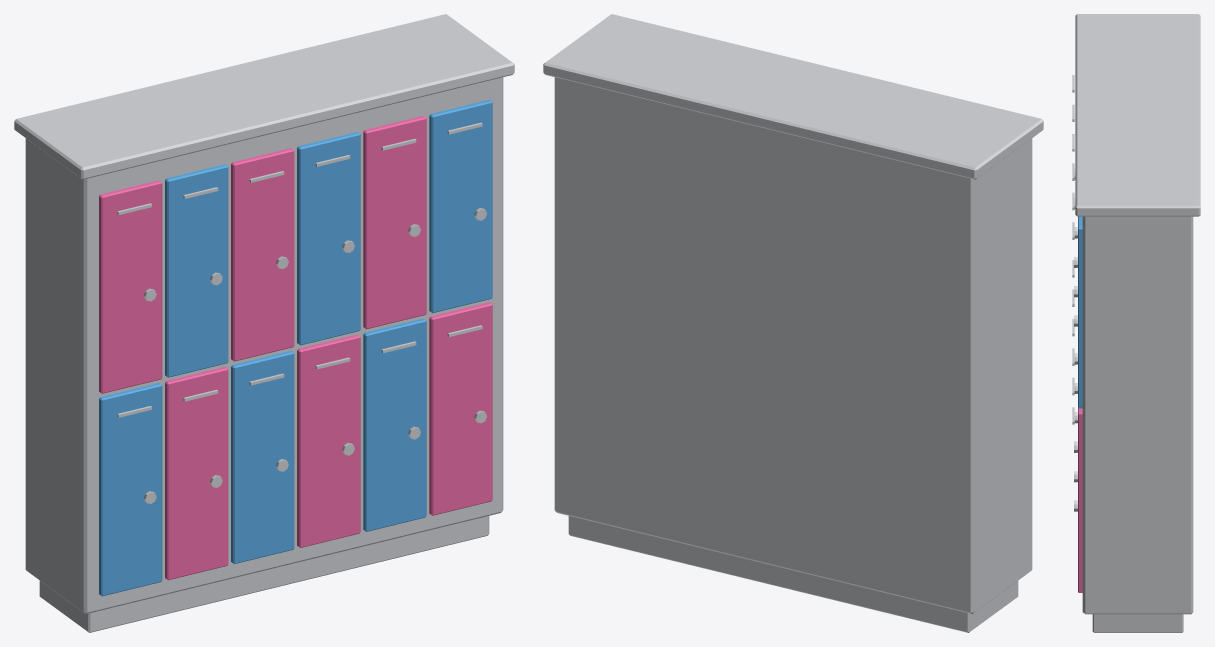
The model's file is trampoline-park-and-soft-play-locker-bank-77a41c4c__34635.glb.
The picture shows the model from 3 angles, left to right: view 1: azimuth 30°, elevation 25°; view 2: azimuth 150°, elevation 25°; view 3: azimuth 270°, elevation 25°; orthographic projection. The views are drawn at different scales.
Visible parts, largest first — view 1: locker-bank, door; view 2: locker-bank; view 3: locker-bank.
Boxes of the visible parts, x1=… form: locker-bank: x1=14, y1=14, x2=514, y2=632; door: x1=99, y1=180, x2=162, y2=393; locker-bank: x1=543, y1=14, x2=1043, y2=632; locker-bank: x1=1072, y1=14, x2=1200, y2=632.
Bounding box in the file's own units: 1.86 × 1.95 × 0.523.
